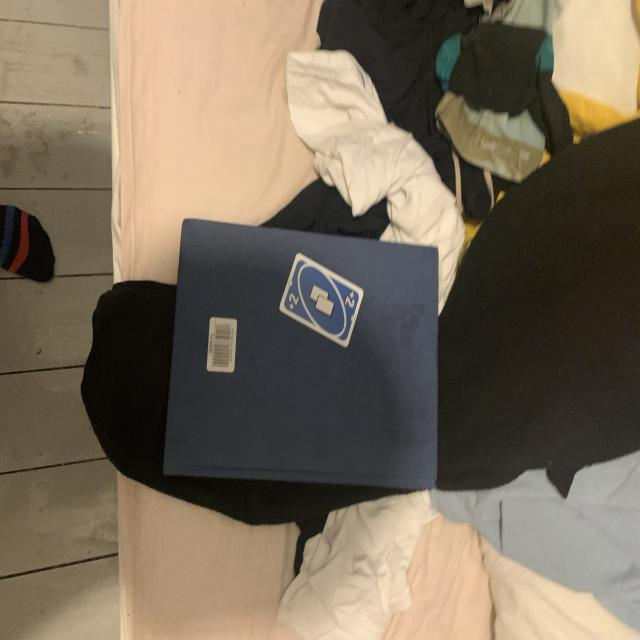lblue-20: (285, 291, 301, 313)
